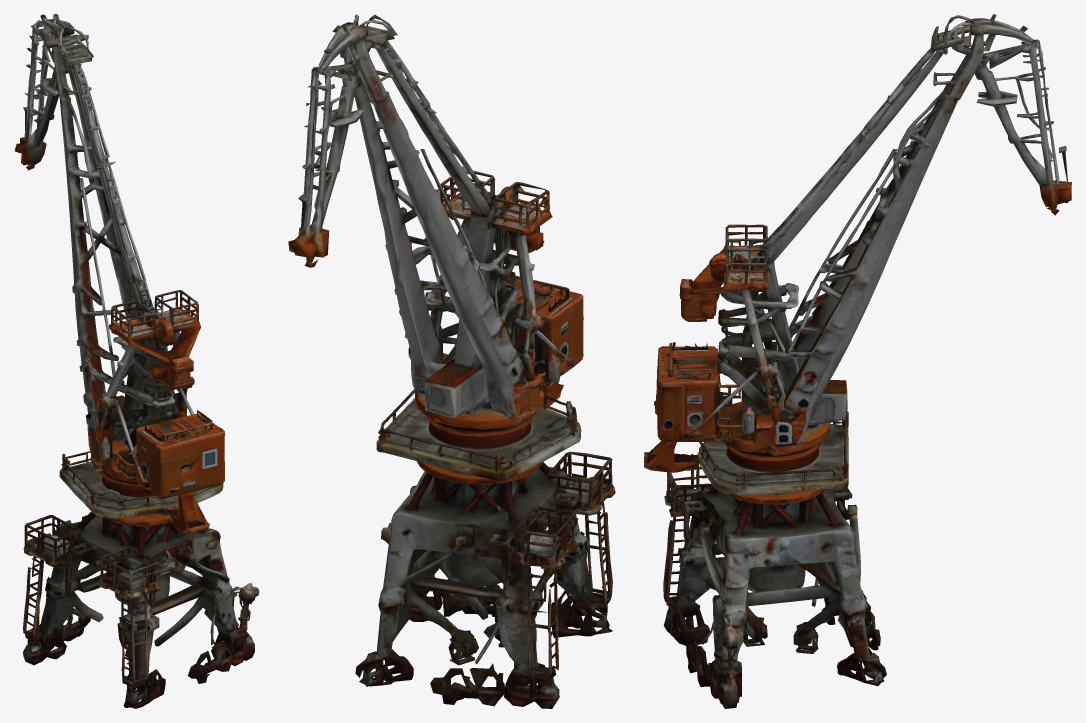
Rendered from gantry_crane.glb.
3 renders of one model, left to right at view 1: azimuth 30°, elevation 25°; view 2: azimuth 150°, elevation 25°; view 3: azimuth 270°, elevation 25°, orthographic. The views are drawn at different scales.
Visible parts, largest first — view 1: tripo_node_220fc0fc-36c2-4e02-af31-fee1cc2122a2; view 2: tripo_node_220fc0fc-36c2-4e02-af31-fee1cc2122a2; view 3: tripo_node_220fc0fc-36c2-4e02-af31-fee1cc2122a2.
Boxes of the visible parts, x1,y1,x2,y2 form: tripo_node_220fc0fc-36c2-4e02-af31-fee1cc2122a2: (14, 14, 259, 708); tripo_node_220fc0fc-36c2-4e02-af31-fee1cc2122a2: (288, 14, 615, 708); tripo_node_220fc0fc-36c2-4e02-af31-fee1cc2122a2: (644, 14, 1071, 708).
Size of the model in its own units: 0.3361 by 0.9821 by 0.584.
1 material, 1 textured.
